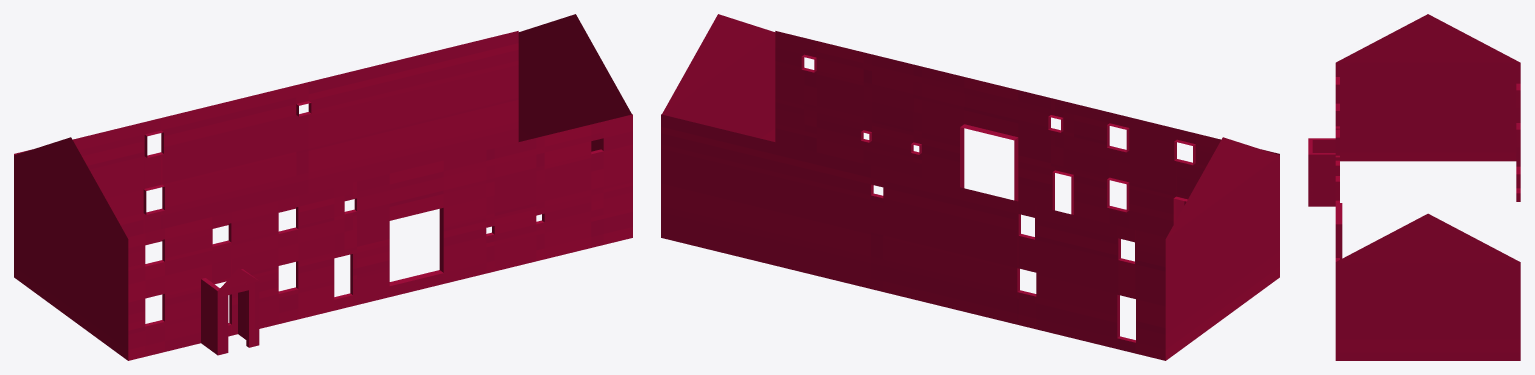
Rendered from SM_Bld_172_Masonry.glb.
3 views of the same model, side by side, from view 1: azimuth 30°, elevation 25°; view 2: azimuth 150°, elevation 25°; view 3: azimuth 270°, elevation 25° (orthographic). The views are drawn at different scales.
Parts seen in each view (by area): view 1: SM_Bld_172_Masonry; view 2: SM_Bld_172_Masonry; view 3: SM_Bld_172_Masonry.
Boxes of the visible parts, x1,y1,x2,y2 form: SM_Bld_172_Masonry: (14, 14, 632, 360); SM_Bld_172_Masonry: (661, 14, 1279, 360); SM_Bld_172_Masonry: (1308, 14, 1520, 360).
Size of the model in its own units: 24.25 by 8.36 by 10.9.
